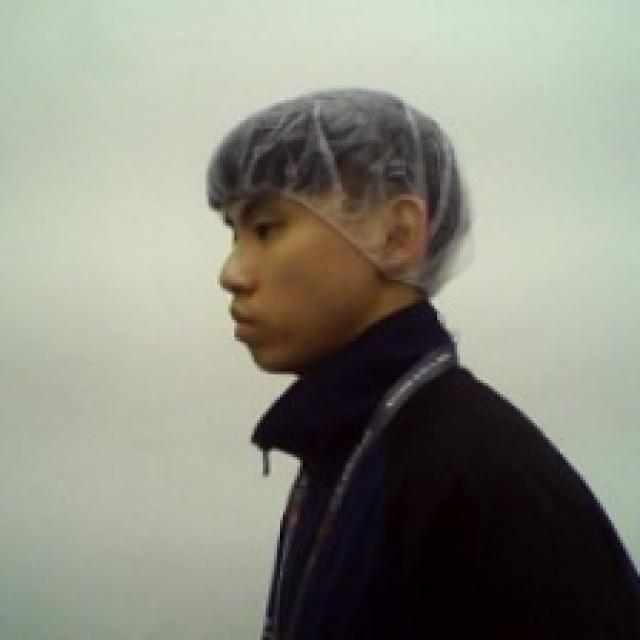gloves: (203, 83, 484, 299)
no_hairnet: (211, 192, 437, 380)
